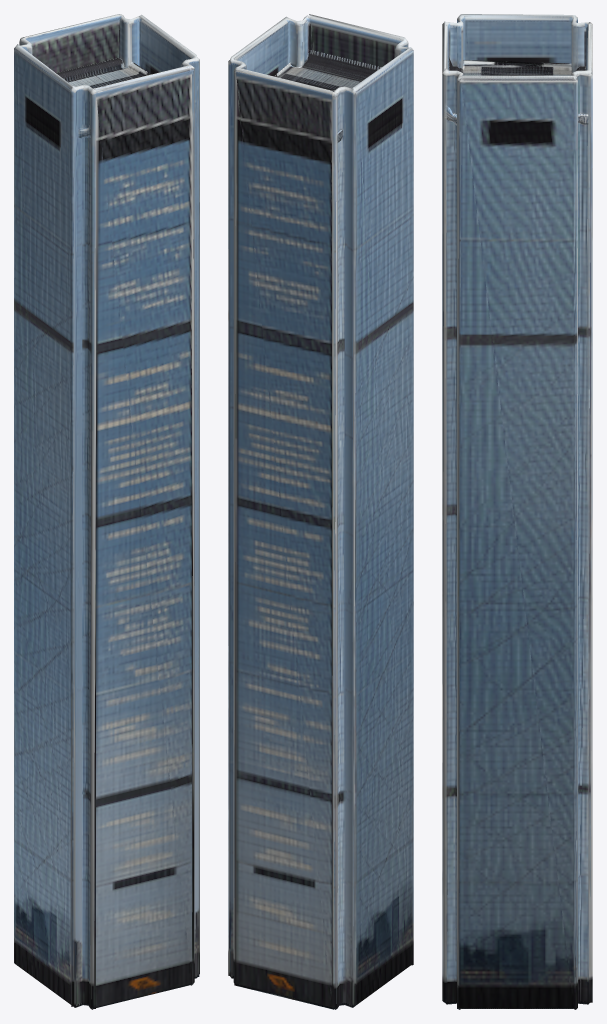
Rendered from narrow_tall_1.glb.
3 views of the same model, side by side, from view 1: azimuth 30°, elevation 25°; view 2: azimuth 150°, elevation 25°; view 3: azimuth 270°, elevation 25° (orthographic).
Size of the model in its own units: 0.2779 by 1.91 by 0.2779.
Materials: 1 (1 with a texture image).
